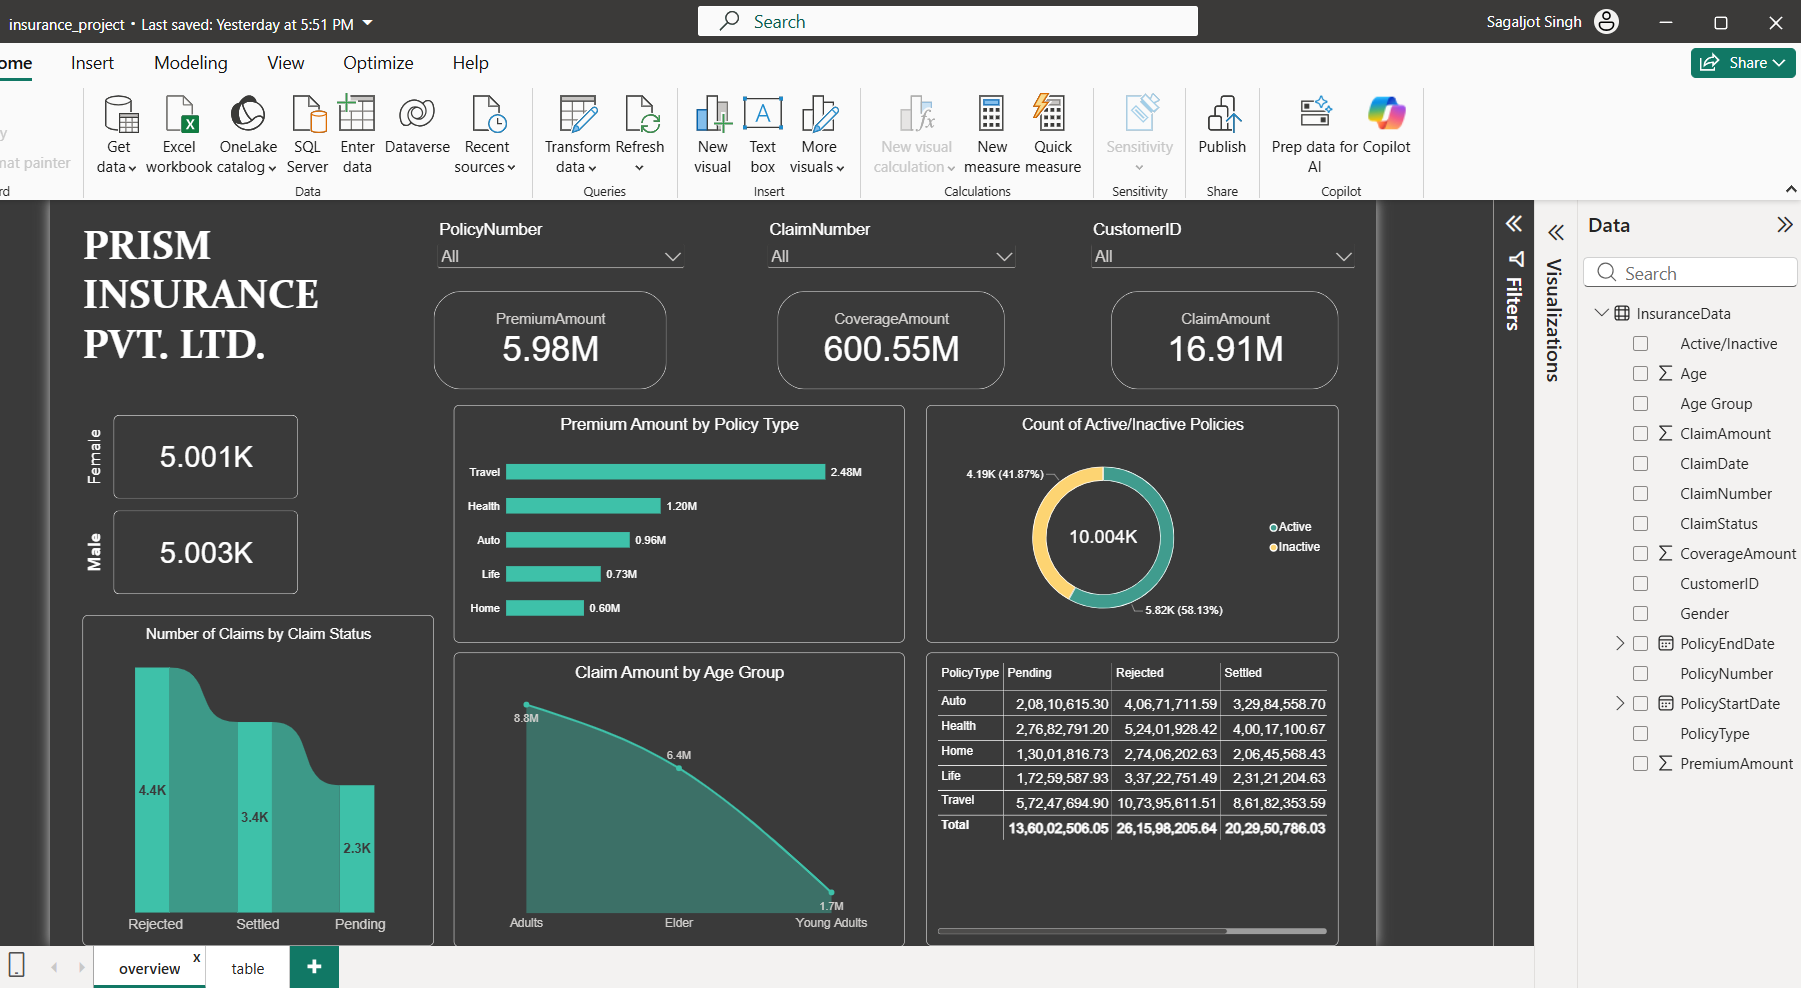

This screenshot's page, from the dashboard's own definition file:
{"tool":"powerbi","page":{"name":"overview","canvas":[1920,1080],"ordinal":0},"visuals":[{"type":"slicer","fields":{"Values":["InsuranceData.PolicyNumber"]},"box":[555.7,28.8,368.4,111.1],"z":0},{"type":"slicer","fields":{"Values":["InsuranceData.CustomerID"]},"box":[1502.6,28.8,393.1,111.1],"z":1},{"type":"slicer","fields":{"Values":["InsuranceData.ClaimNumber"]},"box":[1033.3,28.8,370.5,111.1],"z":2},{"type":"textbox","box":[47.3,28.8,450.8,244.9],"z":3},{"type":"cardVisual","fields":{"Data":["Sum(InsuranceData.PremiumAmount)"]},"box":[555.7,131.7,337.6,142],"z":4},{"type":"cardVisual","fields":{"Data":["Sum(InsuranceData.CoverageAmount)"]},"box":[1053.9,131.7,329.3,142],"z":5},{"type":"cardVisual","fields":{"Data":["Sum(InsuranceData.ClaimAmount)"]},"box":[1535.5,131.7,329.3,142],"z":6},{"type":"cardVisual","fields":{"Data":["CountNonNull(InsuranceData.Gender)"],"Rows":["InsuranceData.Gender"]},"box":[47.3,310.8,312.9,259.3],"z":7},{"type":"ribbonChart","title":"Number of Claims by Claim Status","fields":{"Category":["InsuranceData.ClaimStatus"],"Y":["CountNonNull(InsuranceData.ClaimStatus)"]},"box":[47.3,601,508.4,479.6],"z":8},{"type":"barChart","title":"Premium Amount by Policy Type","fields":{"Category":["InsuranceData.PolicyType"],"Y":["Sum(InsuranceData.PremiumAmount)"]},"box":[584.6,296.4,652.5,343.7],"z":9},{"type":"lineChart","title":"Claim Amount by Age Group","fields":{"Category":["InsuranceData.Age Group"],"Y":["Sum(InsuranceData.ClaimAmount)"]},"box":[584.6,654.5,652.5,426.1],"z":10},{"type":"donutChart","title":"Count of Active/Inactive Policies","fields":{"Category":["InsuranceData.Active/Inactive"],"Y":["CountNonNull(InsuranceData.Active/Inactive)"]},"box":[1267.9,296.4,596.9,343.7],"z":11},{"type":"pivotTable","fields":{"Columns":["InsuranceData.ClaimStatus"],"Rows":["InsuranceData.PolicyType"],"Values":["Sum(InsuranceData.CoverageAmount)"]},"box":[1268,655,597,425],"z":12}]}

Visuals, with their boxes on the page's 1920x1080 design canvas (x1, y1, x2, y2). These are canvas units, not pixel positions in the 1801x988 screenshot, which may show the page scaled, cropped or inside an application window:
slicer - InsuranceData.PolicyNumber: [x1=556, y1=29, x2=924, y2=140]
slicer - InsuranceData.CustomerID: [x1=1503, y1=29, x2=1896, y2=140]
slicer - InsuranceData.ClaimNumber: [x1=1033, y1=29, x2=1404, y2=140]
textbox: [x1=47, y1=29, x2=498, y2=274]
cardVisual - Sum(InsuranceData.PremiumAmount): [x1=556, y1=132, x2=893, y2=274]
cardVisual - Sum(InsuranceData.CoverageAmount): [x1=1054, y1=132, x2=1383, y2=274]
cardVisual - Sum(InsuranceData.ClaimAmount): [x1=1536, y1=132, x2=1865, y2=274]
cardVisual - CountNonNull(InsuranceData.Gender) x InsuranceData.Gender: [x1=47, y1=311, x2=360, y2=570]
"Number of Claims by Claim Status" ribbonChart: [x1=47, y1=601, x2=556, y2=1081]
"Premium Amount by Policy Type" barChart: [x1=585, y1=296, x2=1237, y2=640]
"Claim Amount by Age Group" lineChart: [x1=585, y1=654, x2=1237, y2=1081]
"Count of Active/Inactive Policies" donutChart: [x1=1268, y1=296, x2=1865, y2=640]
pivotTable - InsuranceData.ClaimStatus x InsuranceData.PolicyType: [x1=1268, y1=655, x2=1865, y2=1080]
